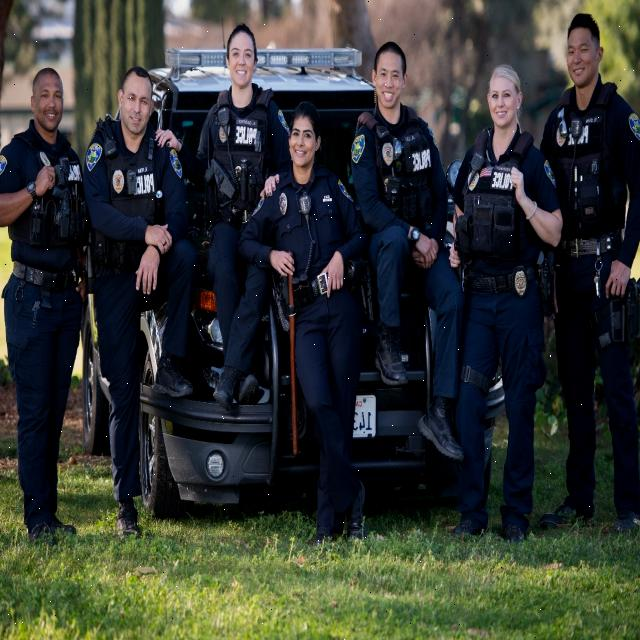police: (448, 56, 562, 528), (89, 61, 201, 531), (545, 0, 640, 529), (350, 22, 468, 441), (254, 106, 365, 505), (189, 25, 293, 437), (0, 42, 81, 552)
